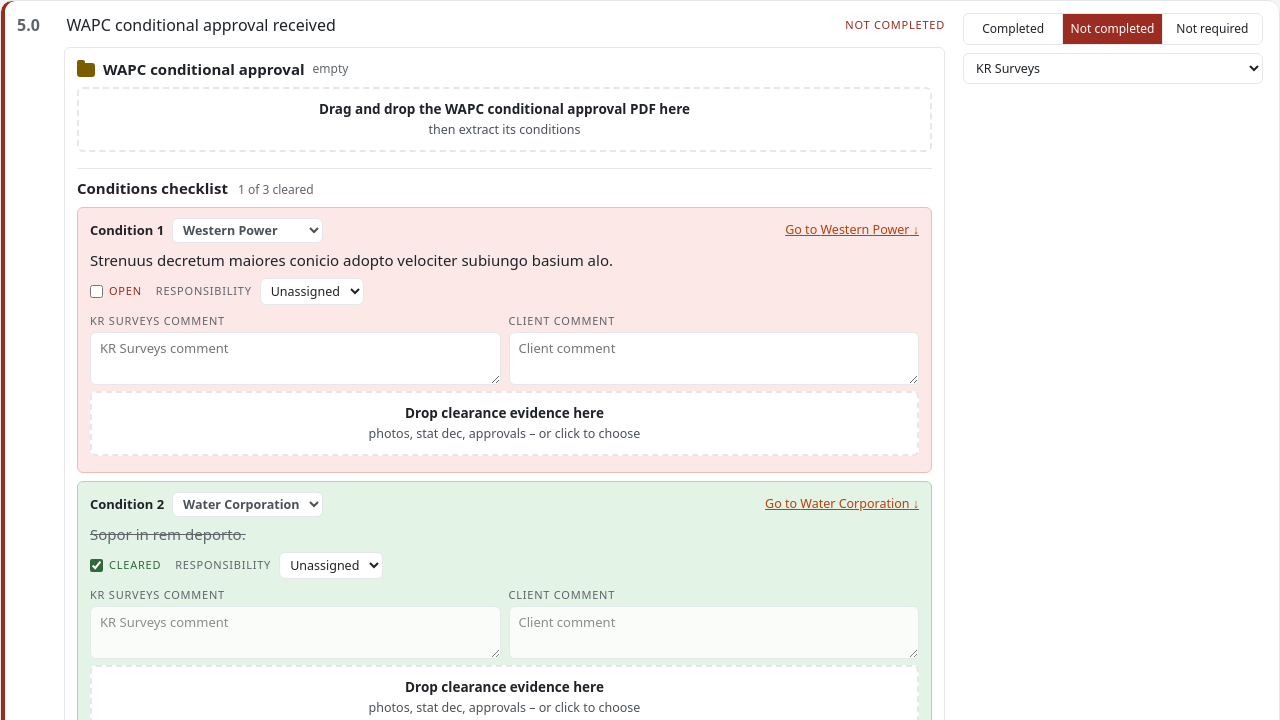
Test: editing a condition in the checklist › ticks a condition at once, sends If-Match with its version and refreshes the job
Click the checkbox named "Condition 1: Open": (96, 291) [90, 284, 103, 298]
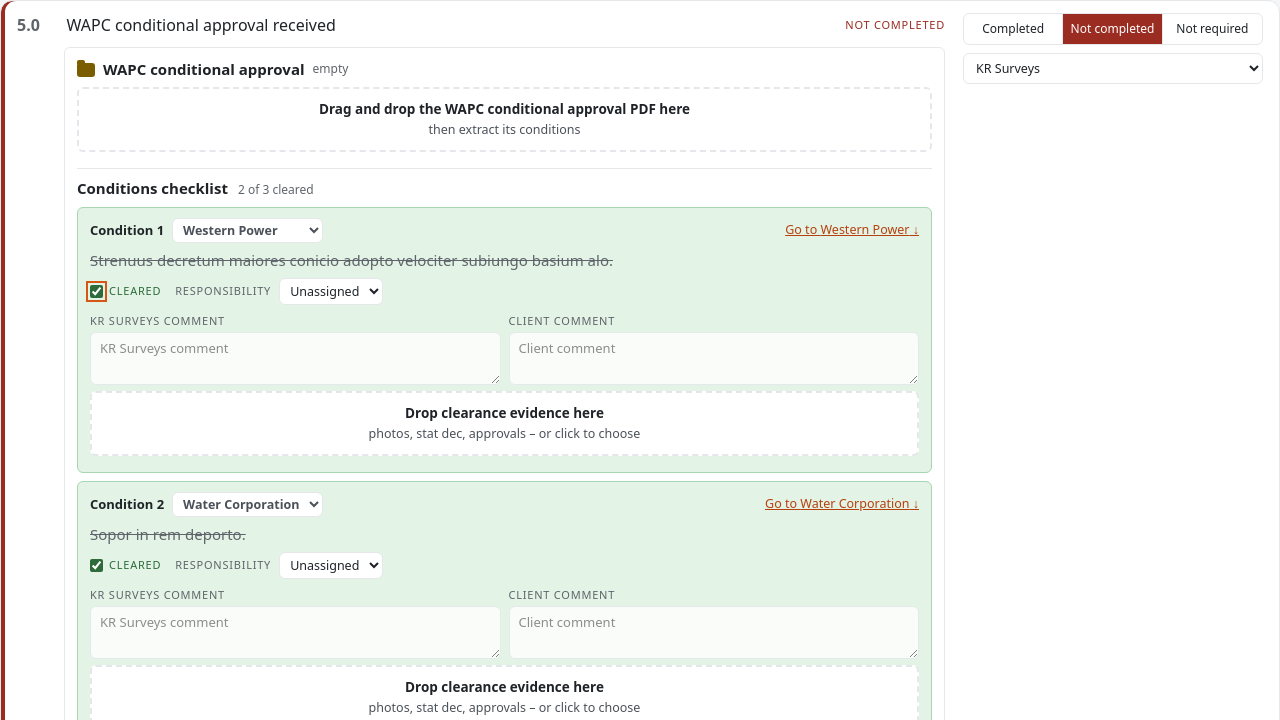
expect the checkbox named "Condition 1: Cleared" is checked: met, box [90, 284, 103, 298]
expect the heading "Conditions checklist 2 of 3 cleared" is shown: met, box [77, 178, 314, 198]
